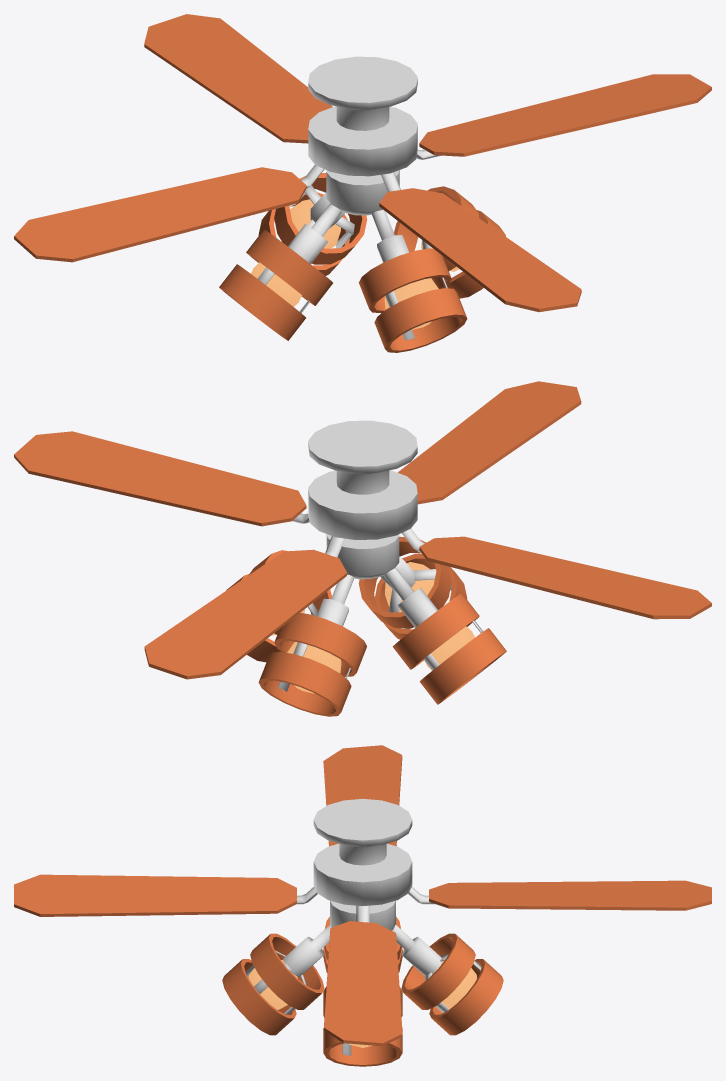
File: ceiling-fan-light.glb
3 views of the same model, one above another, from view 1: azimuth 30°, elevation 25°; view 2: azimuth 150°, elevation 25°; view 3: azimuth 270°, elevation 25° (orthographic). The views are drawn at different scales.
Visible parts, largest first — view 1: Plane (×4), Cylinder (×4), Cylinder.005, Rotor, Cylinder.002 (×2), Cylinder.003, Lamp (×3), Plane.002; view 2: Plane (×4), Cylinder (×4), Cylinder.005, Rotor, Cylinder.002 (×2), Cylinder.003, Lamp (×2); view 3: Plane (×4), Cylinder (×3), Cylinder.005, Rotor, Cylinder.002 (×2), Cylinder.003, Lamp.
Boxes of the visible parts, bbox=[...] form: Plane (×4): bbox=[14, 14, 711, 312]; Cylinder (×4): bbox=[219, 173, 505, 352]; Cylinder.005: bbox=[308, 56, 417, 130]; Rotor: bbox=[308, 106, 417, 176]; Cylinder.002 (×2): bbox=[288, 203, 408, 263]; Cylinder.003: bbox=[326, 170, 399, 215]; Lamp (×3): bbox=[251, 199, 438, 329]; Plane.002: bbox=[290, 185, 354, 248]; Plane (×4): bbox=[14, 381, 711, 679]; Cylinder (×4): bbox=[226, 536, 506, 716]; Cylinder.005: bbox=[308, 420, 417, 494]; Rotor: bbox=[308, 470, 417, 539]; Cylinder.002 (×2): bbox=[317, 567, 437, 627]; Cylinder.003: bbox=[326, 534, 399, 579]; Lamp (×2): bbox=[287, 626, 474, 693]; Plane (×4): bbox=[14, 745, 711, 1046]; Cylinder (×3): bbox=[222, 933, 503, 1066]; Cylinder.005: bbox=[313, 799, 412, 865]; Rotor: bbox=[313, 843, 412, 905]; Cylinder.002 (×2): bbox=[283, 925, 441, 977]; Cylinder.003: bbox=[330, 900, 395, 930]; Lamp: bbox=[432, 960, 476, 1008].
Bounding box in the file's own units: 1.06 × 0.3538 × 1.06.
